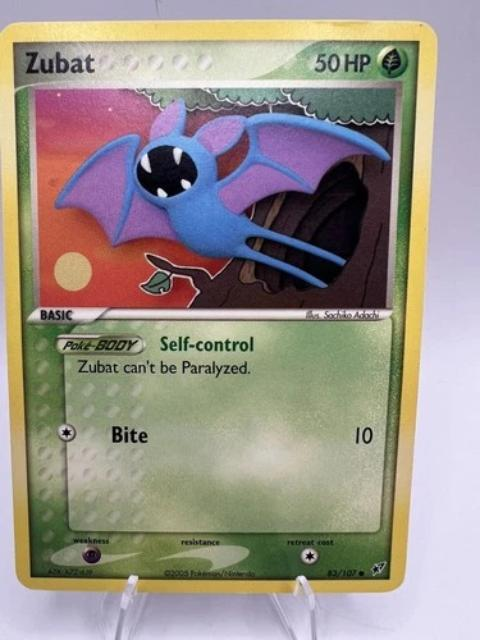Card: (0, 15, 442, 598)
Name: (20, 45, 100, 78)
